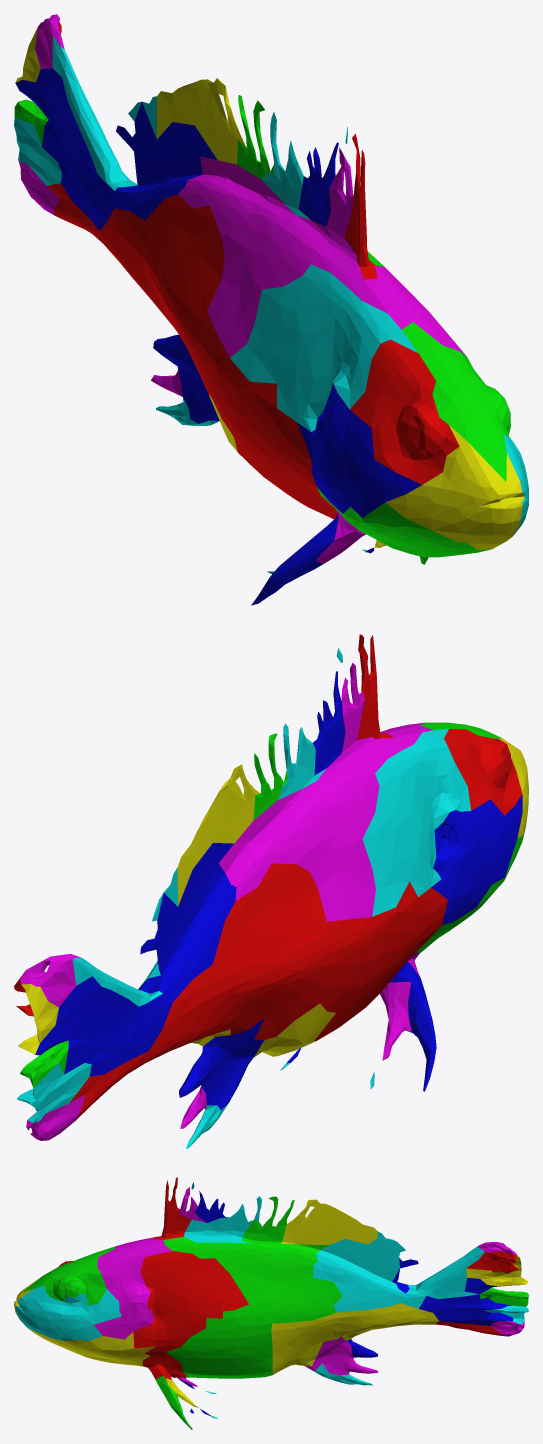
File: boguchi_0.fbx
3 renders of one model, top to bottom at view 1: azimuth 30°, elevation 25°; view 2: azimuth 150°, elevation 25°; view 3: azimuth 270°, elevation 25°, orthographic. The views are drawn at different scales.
Bounding box in the file's own units: 0.194 × 0.5002 × 0.9999.
